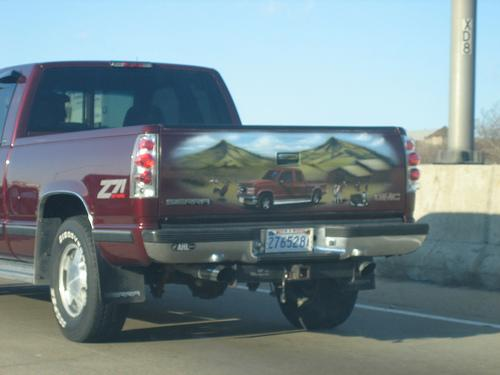truck: (0, 59, 430, 343)
